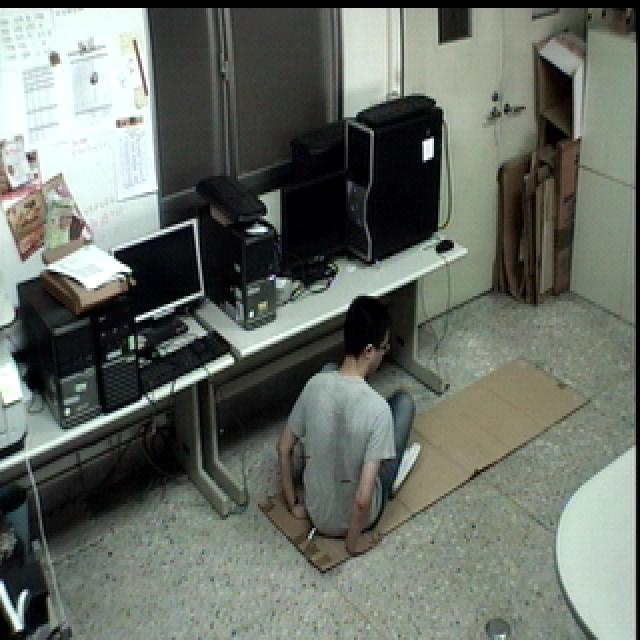sit: (278, 289, 427, 559)
